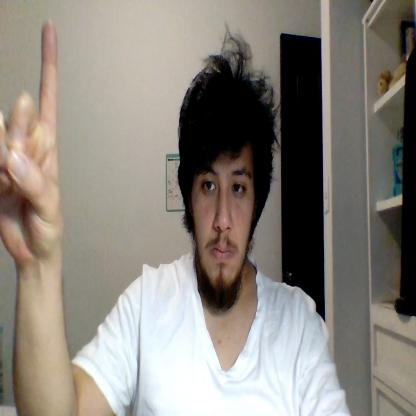D: (0, 21, 62, 257)
